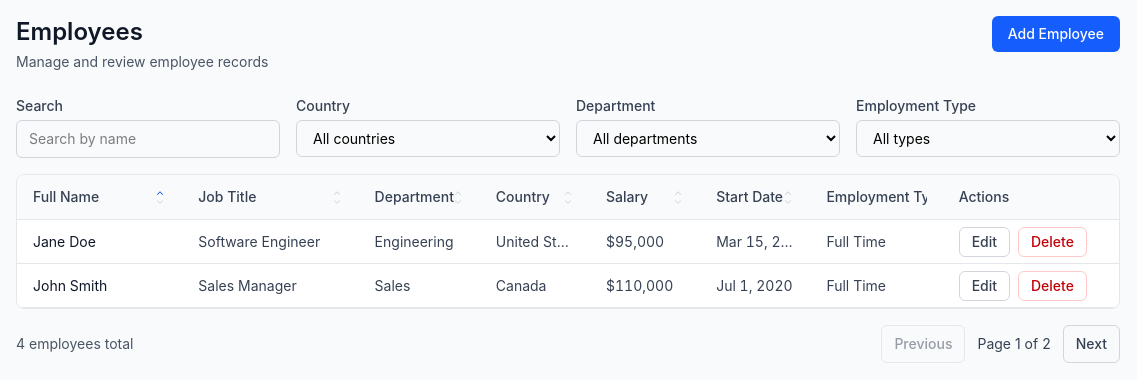
Test: EmployeeList › shows empty state when no employees match filters
The image size is (1137, 380).
Expected: the cell "Jane Doe" is shown, [17,220,182,264]
Type "No Matching Name" into the search field labelled "Search". click: (148, 139)
box: [16,120,280,158]
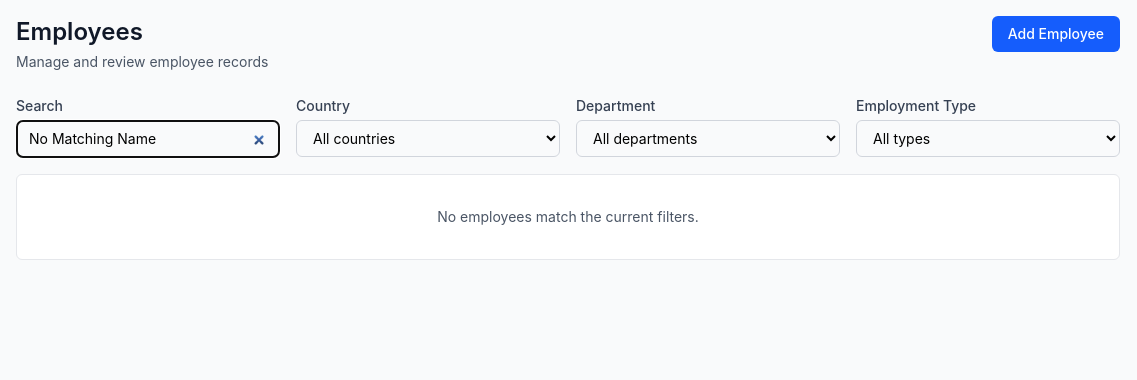
Result: the text "No employees match the current filters." is shown at [16,174,1120,260]
